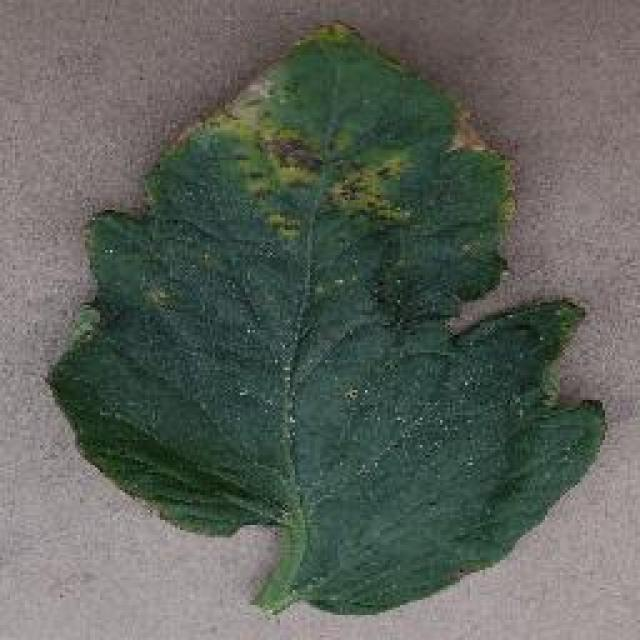Tomato bacterial spot leaf: (40, 10, 615, 625)
